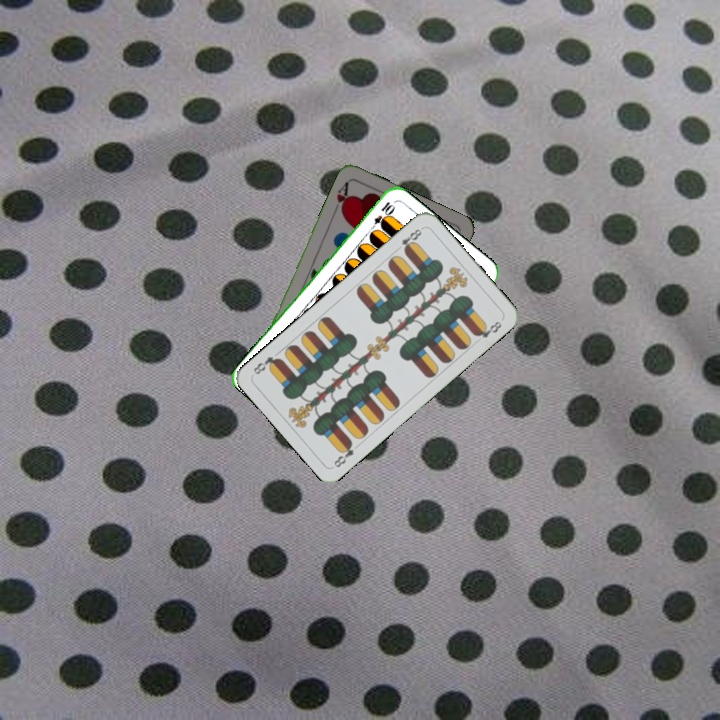E10: (366, 197, 397, 234)
E8: (329, 437, 357, 470), (397, 224, 425, 255)
HA: (329, 177, 352, 217)
